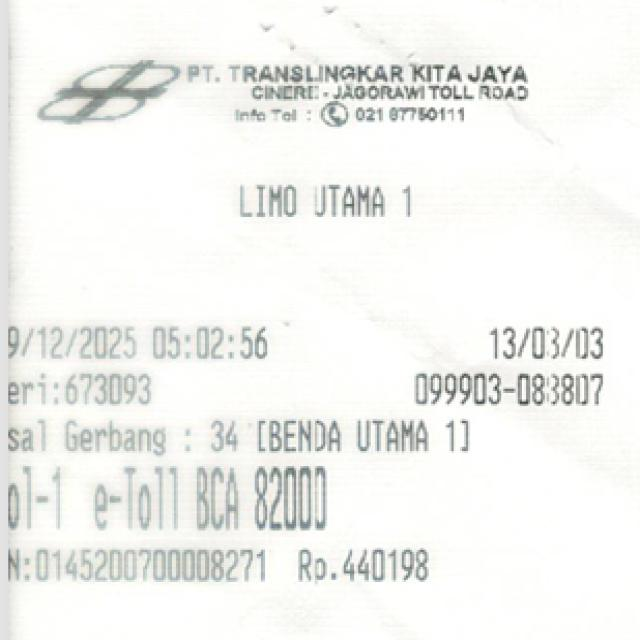date: (0, 315, 303, 372)
store: (175, 55, 541, 105)
total: (251, 467, 355, 530)
